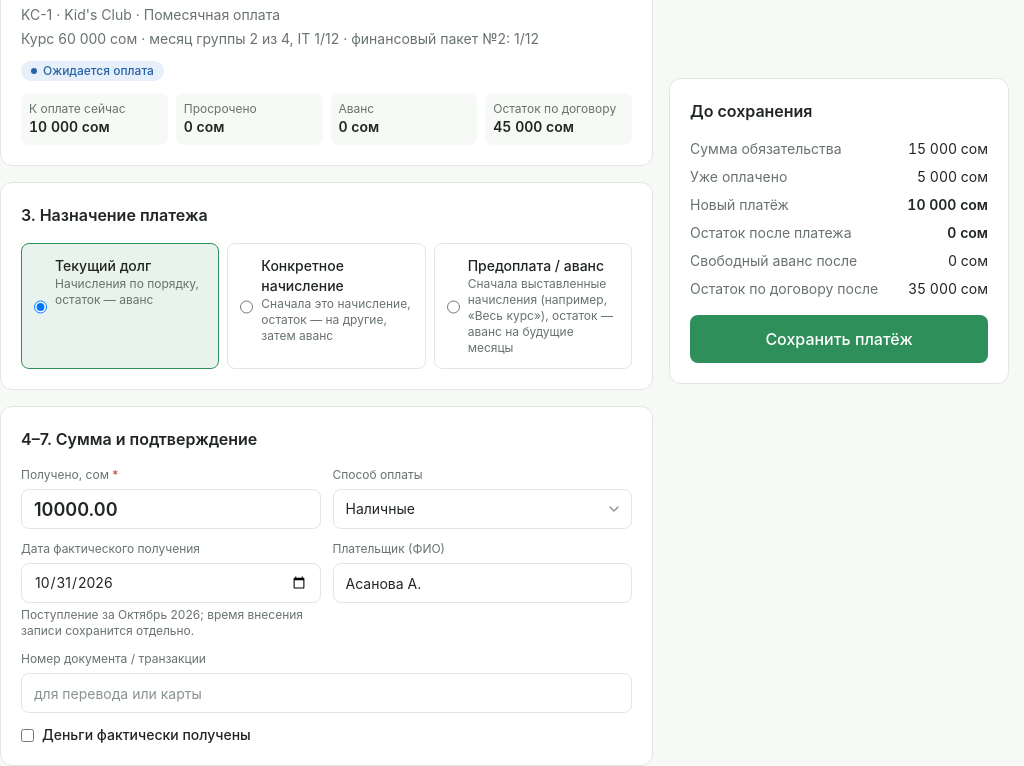
AddPaymentPage › previews the result and saves one payment per open form even on a double click
This screenshot has width=1024, height=766.
(page scrolled)
Expected: the field labelled "Получено, сом *" holds "10000.00", top-left (21, 489), bottom-right (320, 529)
Expected: the text "Сумма обязательства" is shown, top-left (690, 139), bottom-right (842, 159)
Click the checkbox labelled "Деньги фактически получены".
click(28, 735)  # box top-left (21, 728), bottom-right (34, 742)
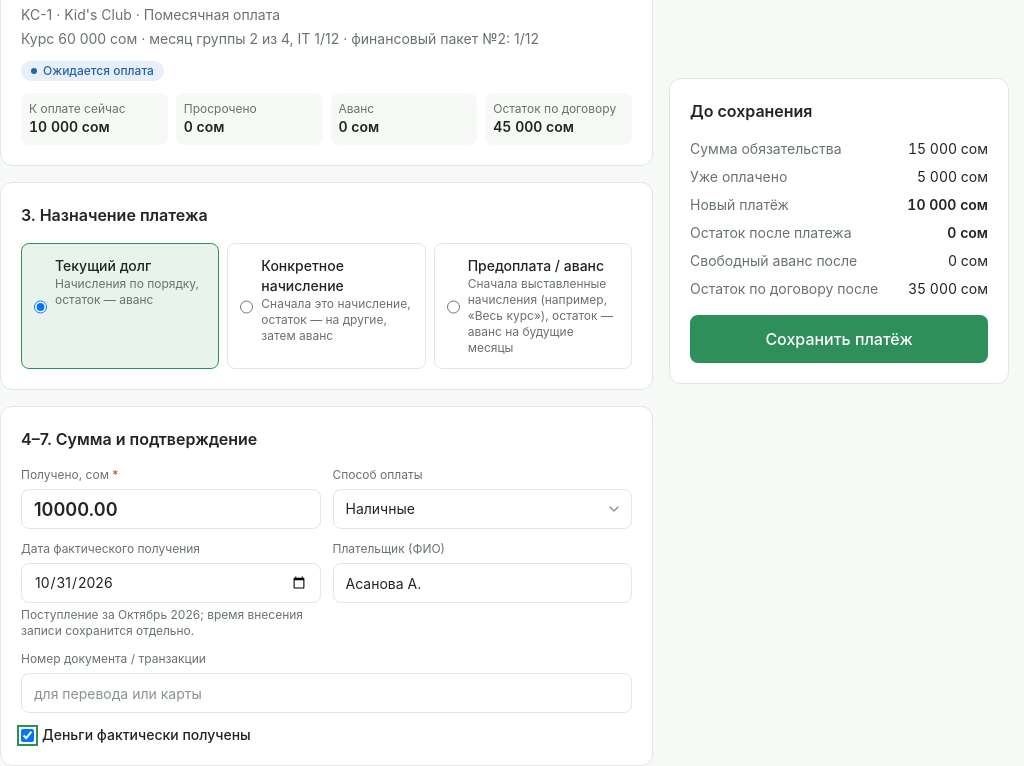
Click the button "Сохранить платёж".
click(839, 339)  # box top-left (690, 315), bottom-right (988, 363)
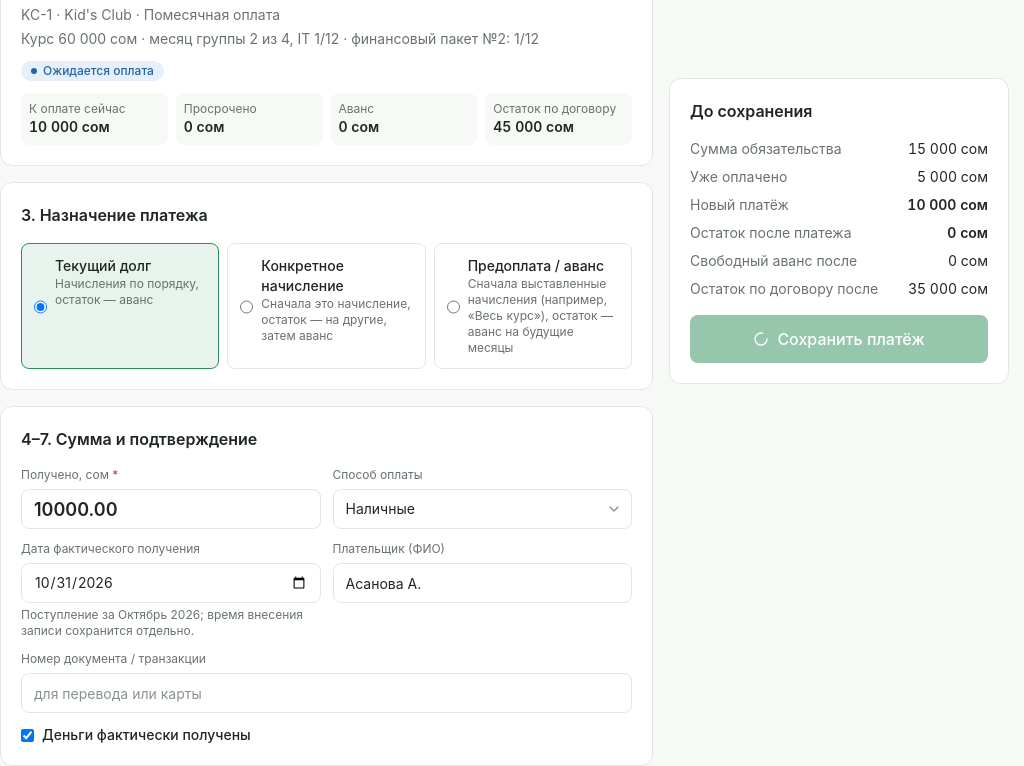
Click the button "Сохранить платёж".
click(839, 339)  # box top-left (690, 315), bottom-right (988, 363)
(page scrolled)
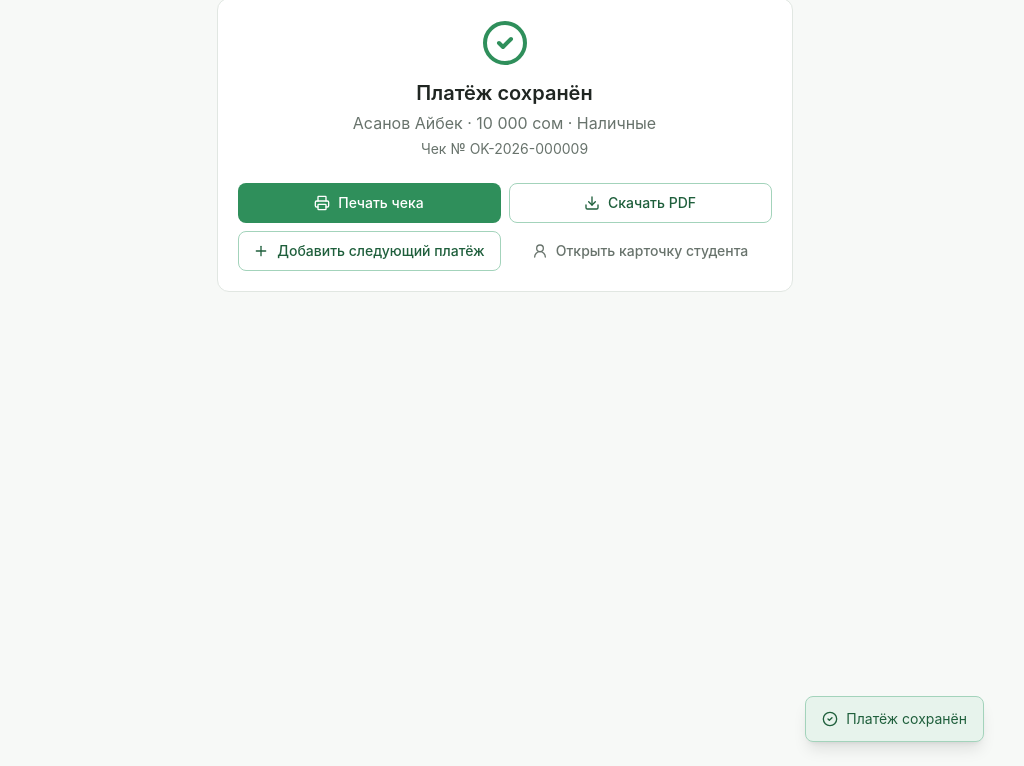
Now the heading "Платёж сохранён" is shown, box top-left (416, 81), bottom-right (593, 105)
Now the button "Печать чека" is shown, box top-left (238, 183), bottom-right (500, 223)
Now the button "Скачать PDF" is shown, box top-left (508, 183), bottom-right (772, 223)
